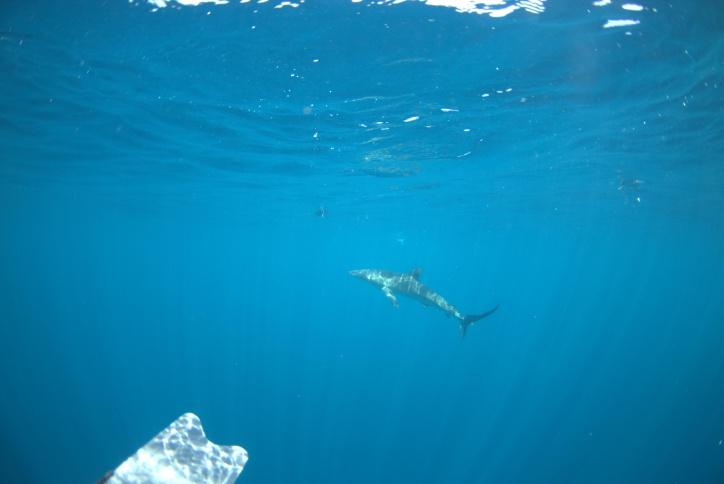Sedoso: (335, 261, 512, 345)
